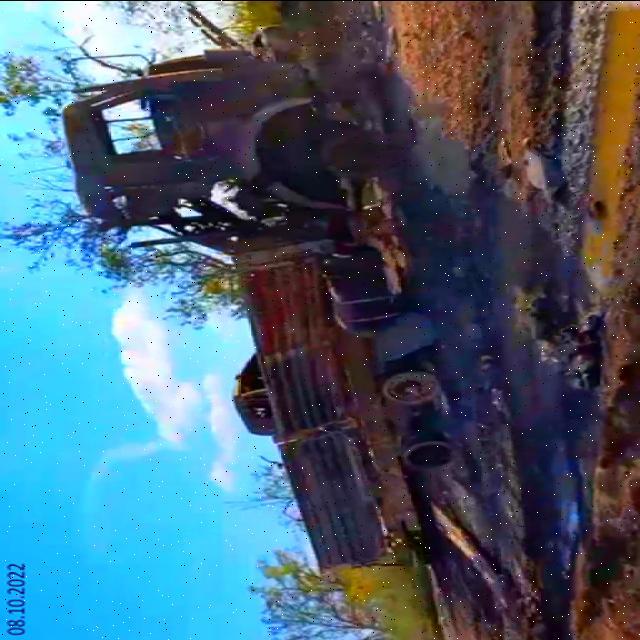TRUCK: (40, 51, 476, 570)
